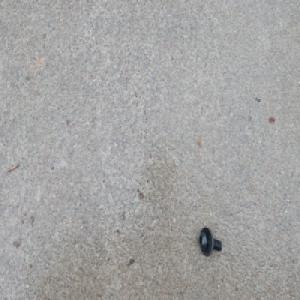BoltWasher: (197, 225, 221, 257)
